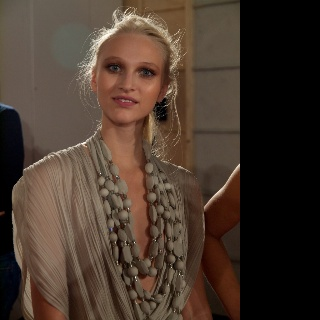without_mask: (97, 33, 160, 122)
